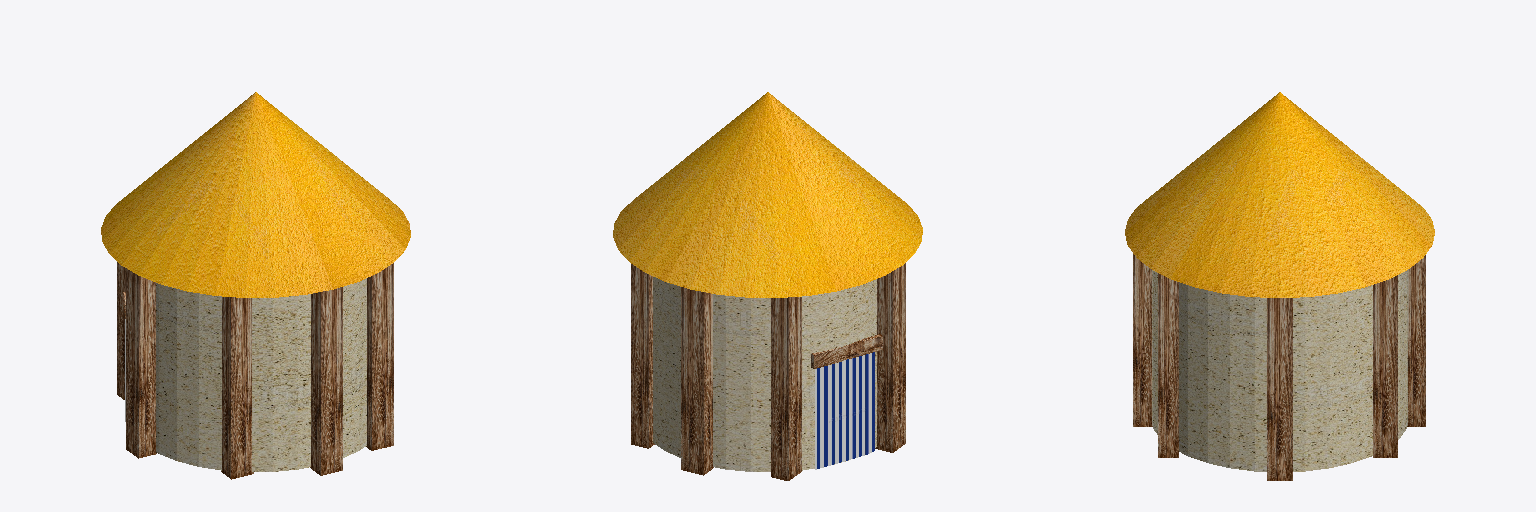
The picture shows the model from 3 angles: view 1: azimuth 30°, elevation 25°; view 2: azimuth 150°, elevation 25°; view 3: azimuth 270°, elevation 25°; orthographic projection.
Visible parts, largest first — view 1: Cone, Cylinder, Cube.003_Cube.014, Cube.001_Cube.012, Cube.007_Cube.018, Cube.006_Cube.017, Cube.004_Cube.015; view 2: Cone, Cylinder, Cylinder.002, Cube.002_Cube.013, Cube.004_Cube.015, Cube.001_Cube.012, Cube.005_Cube.016, Cube.008_Cube.019; view 3: Cone, Cylinder, Cube_Cube.011, Cube.005_Cube.016, Cube.006_Cube.017, Cube.003_Cube.014, Cube.002_Cube.013.
Part boxes in pixels (bbox=[...]): Cone: bbox=[101, 92, 410, 297]; Cylinder: bbox=[156, 278, 366, 471]; Cube.003_Cube.014: bbox=[310, 287, 342, 475]; Cube.001_Cube.012: bbox=[126, 268, 156, 458]; Cube.007_Cube.018: bbox=[221, 297, 253, 479]; Cube.006_Cube.017: bbox=[366, 263, 393, 450]; Cube.004_Cube.015: bbox=[117, 262, 125, 399]; Cone: bbox=[613, 92, 922, 297]; Cylinder: bbox=[653, 277, 876, 471]; Cylinder.002: bbox=[815, 352, 874, 469]; Cube.002_Cube.013: bbox=[681, 287, 713, 475]; Cube.004_Cube.015: bbox=[771, 297, 801, 480]; Cube.001_Cube.012: bbox=[875, 263, 905, 452]; Cube.005_Cube.016: bbox=[631, 264, 654, 448]; Cube.008_Cube.019: bbox=[811, 334, 882, 368]; Cone: bbox=[1125, 92, 1434, 297]; Cylinder: bbox=[1152, 270, 1407, 471]; Cube_Cube.011: bbox=[1267, 298, 1292, 480]; Cube.005_Cube.016: bbox=[1373, 275, 1397, 457]; Cube.006_Cube.017: bbox=[1158, 273, 1178, 457]; Cube.003_Cube.014: bbox=[1133, 254, 1152, 426]; Cube.002_Cube.013: bbox=[1407, 255, 1425, 426].
Bounding box in the file's own units: 60 × 69.94 × 60.
Materials: 11 (4 with a texture image).